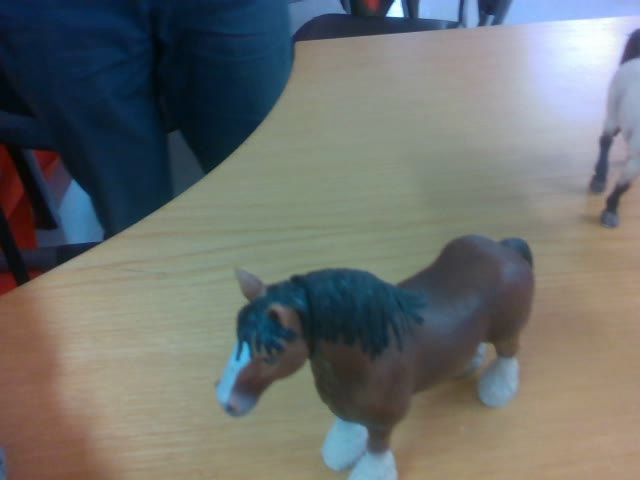toy: (210, 235, 537, 480)
